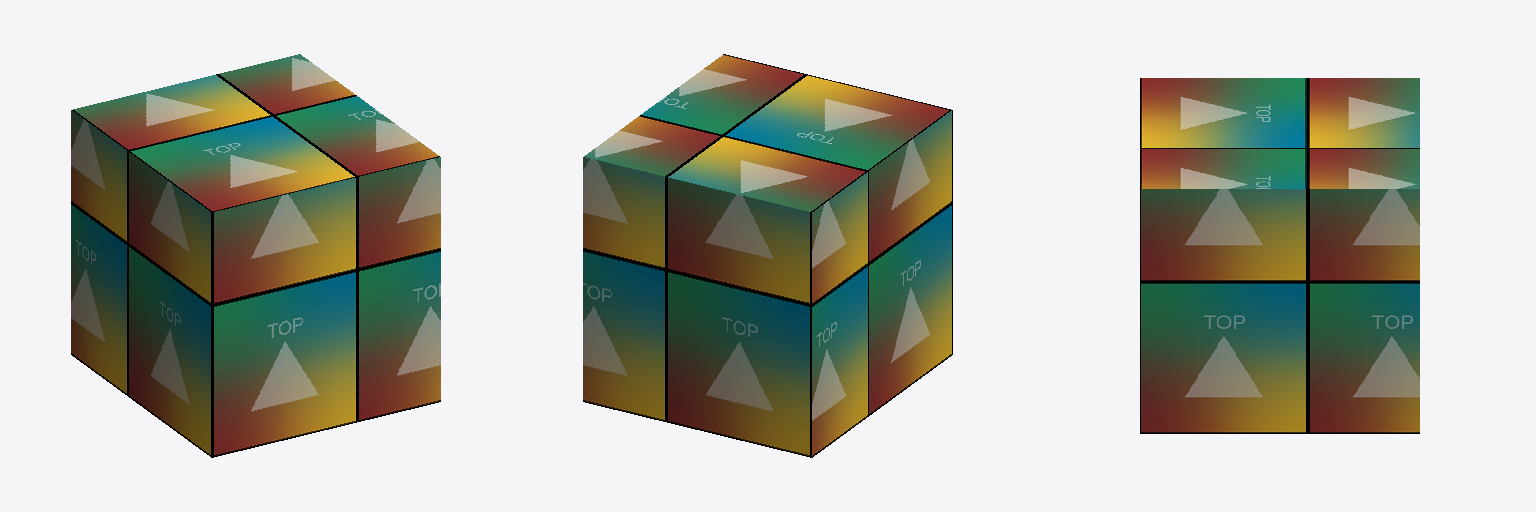
3 views of the same model, side by side, from view 1: azimuth 30°, elevation 25°; view 2: azimuth 150°, elevation 25°; view 3: azimuth 270°, elevation 25° (orthographic).
Visible parts, largest first — view 1: Mesh1 Model; view 2: Mesh1 Model; view 3: Mesh1 Model.
Part boxes in pixels (left/top/right/bottom): Mesh1 Model: left=71, top=54, right=440, bottom=457; Mesh1 Model: left=583, top=54, right=952, bottom=457; Mesh1 Model: left=1140, top=78, right=1419, bottom=433.
Bounding box in the file's own units: 1.57 × 1.61 × 1.67.
1 materials, 1 textured.